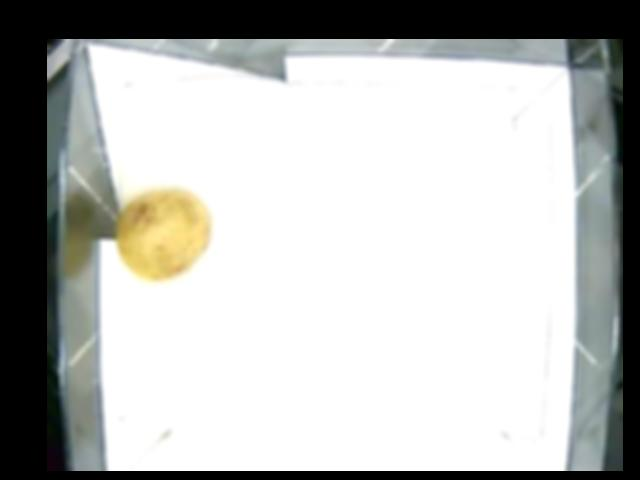Potato: (116, 190, 213, 278)
